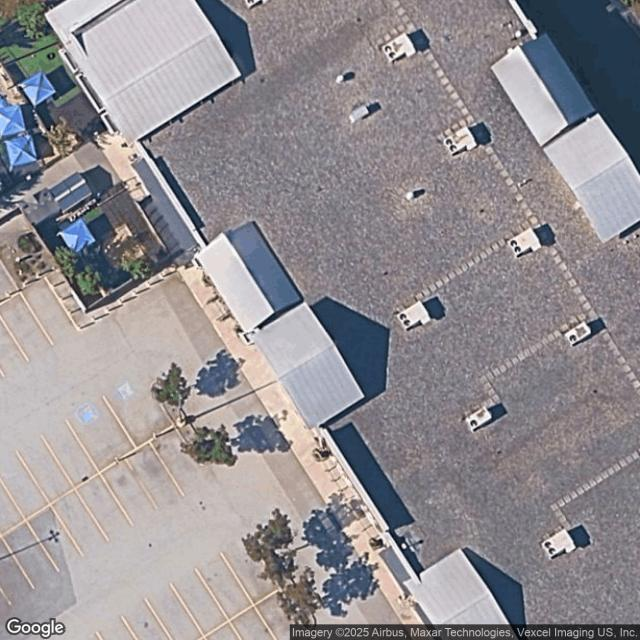lot_boundary: (0, 214, 416, 640)
objects: (260, 550, 318, 630), (160, 397, 213, 465)
stall: (104, 373, 175, 449), (66, 396, 136, 471), (41, 420, 99, 488), (75, 474, 133, 542), (1, 521, 59, 589), (26, 504, 84, 572), (17, 436, 75, 504), (100, 458, 158, 526), (126, 442, 184, 510), (150, 427, 208, 495), (220, 536, 278, 604), (195, 552, 253, 620), (171, 567, 229, 635), (51, 489, 109, 556), (20, 277, 78, 342), (145, 583, 205, 639), (255, 591, 311, 639), (1, 538, 34, 605), (122, 601, 172, 639), (0, 316, 30, 379), (229, 606, 276, 639)
